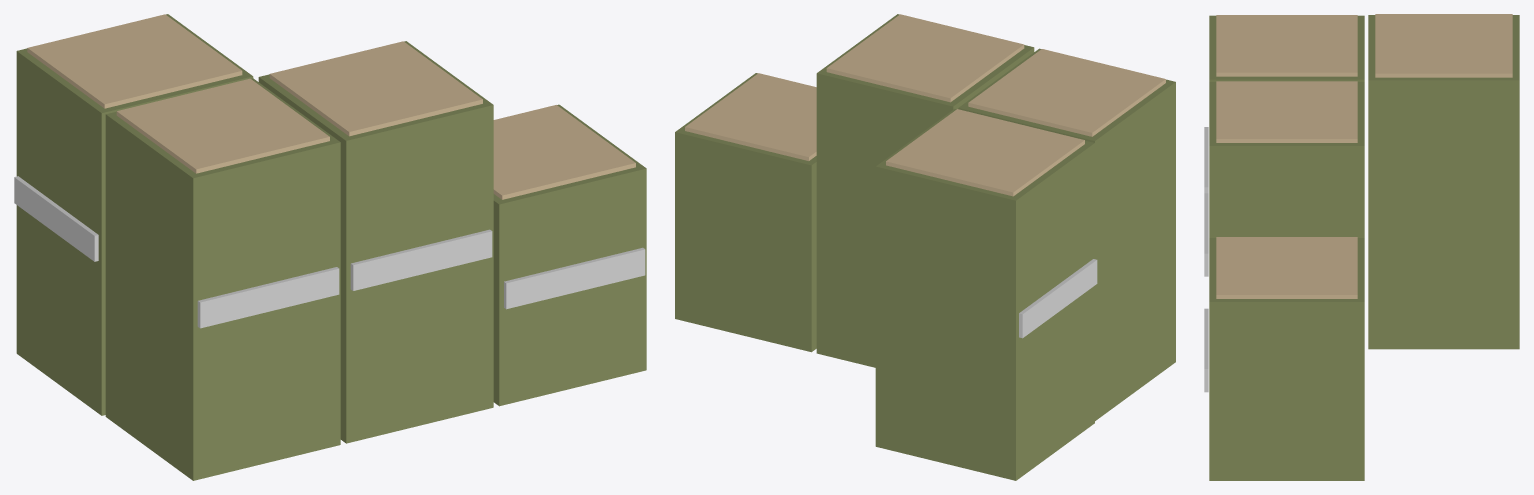
The model's file is SM_HescoRemate_v2_Escalonado_e0_Sano_LOD1.fbx.
The picture shows the model from 3 angles, left to right: view 1: azimuth 30°, elevation 25°; view 2: azimuth 150°, elevation 25°; view 3: azimuth 270°, elevation 25°; orthographic projection. The views are drawn at different scales.
Visible parts, largest first — view 1: SM_hesco_piezas_v28_LOD1; view 2: SM_hesco_piezas_v28_LOD1; view 3: SM_hesco_piezas_v28_LOD1.
Boxes of the visible parts, x1,y1,x2,y2 form: SM_hesco_piezas_v28_LOD1: [14, 14, 646, 480]; SM_hesco_piezas_v28_LOD1: [675, 14, 1175, 480]; SM_hesco_piezas_v28_LOD1: [1204, 14, 1519, 480].
Bounding box in the file's own units: 3.34 × 2.13 × 2.23.
